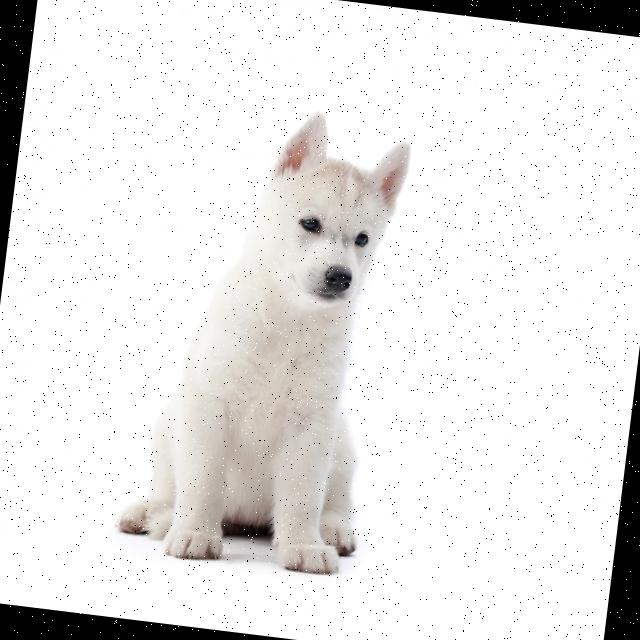Dog: (113, 94, 412, 579)
